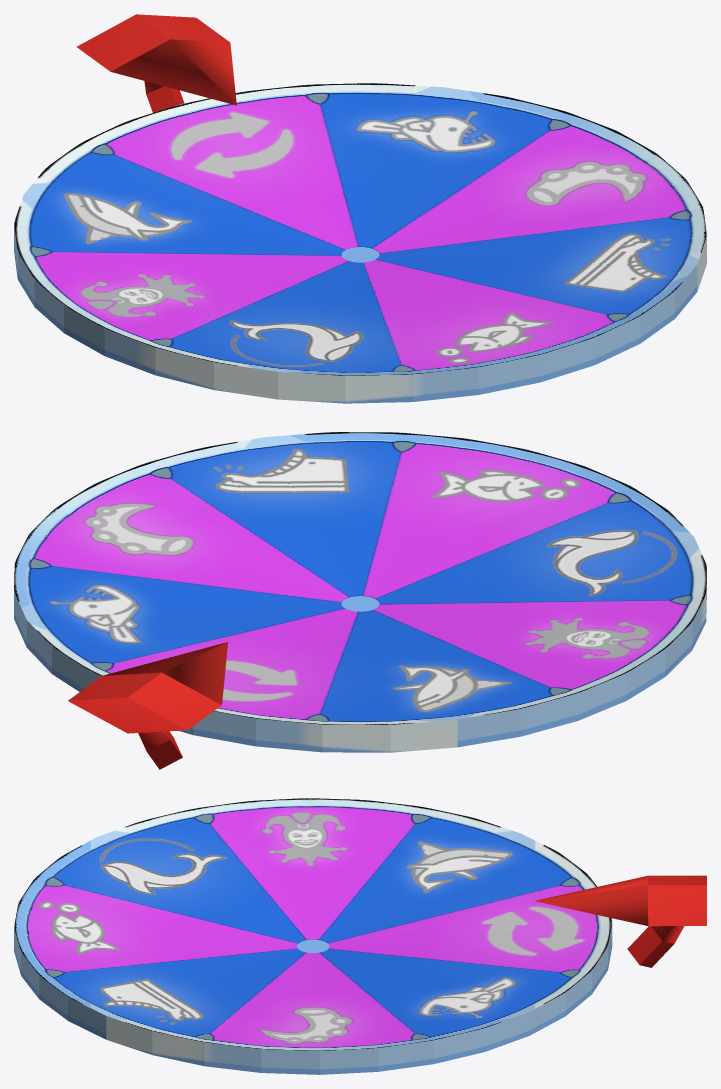
The model's file is Mni_Rulleta.FBX.
3 views of the same model, one above another, from view 1: azimuth 30°, elevation 25°; view 2: azimuth 150°, elevation 25°; view 3: azimuth 270°, elevation 25° (orthographic). The views are drawn at different scales.
Visible parts, largest first — view 1: Big_Reel, Mini_Rulleta; view 2: Big_Reel, Mini_Rulleta; view 3: Big_Reel, Mini_Rulleta.
Boxes of the visible parts, x1=… form: Big_Reel: x1=14, y1=83, x2=706, y2=403; Mini_Rulleta: x1=76, y1=14, x2=236, y2=112; Big_Reel: x1=14, y1=432, x2=706, y2=752; Mini_Rulleta: x1=68, y1=642, x2=227, y2=769; Big_Reel: x1=14, y1=798, x2=612, y2=1074; Mini_Rulleta: x1=535, y1=875, x2=706, y2=967.
Size of the model in its own units: 102 by 15.56 by 119.
